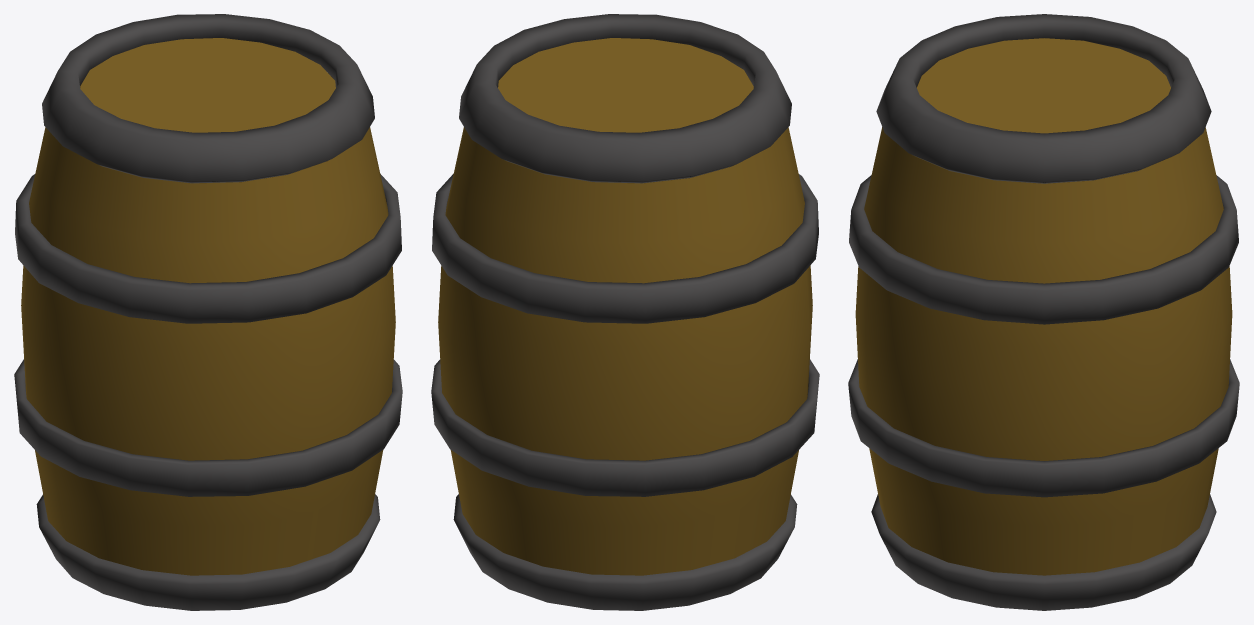
File: Barrel.fbx
3 views of the same model, side by side, from view 1: azimuth 30°, elevation 25°; view 2: azimuth 150°, elevation 25°; view 3: azimuth 270°, elevation 25° (orthographic).
Visible parts, largest first — view 1: Barrel; view 2: Barrel; view 3: Barrel.
Boxes of the visible parts, x1,y1,x2,y2 form: Barrel: [14, 14, 402, 610]; Barrel: [431, 14, 819, 610]; Barrel: [848, 14, 1239, 610].
Size of the model in its own units: 0.8611 by 0.8611 by 1.13.
